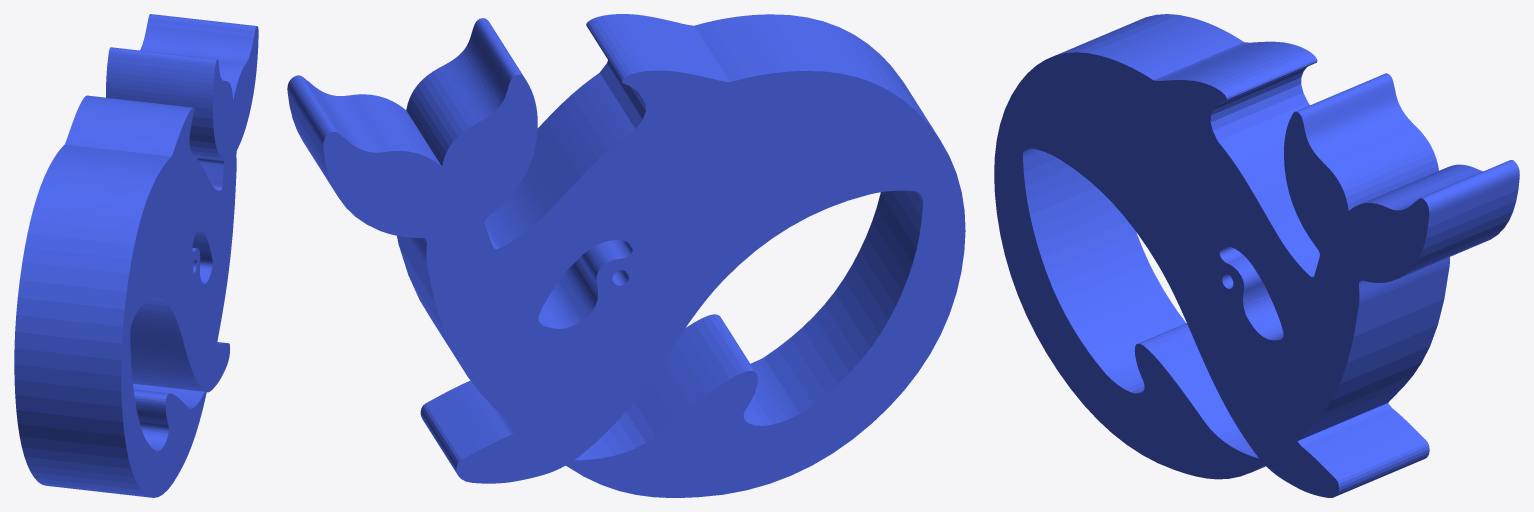
File: deepseek.gltf
The picture shows the model from 3 angles, left to right: view 1: azimuth 30°, elevation 25°; view 2: azimuth 150°, elevation 25°; view 3: azimuth 270°, elevation 25°; orthographic projection. The views are drawn at different scales.
Size of the model in its own units: 85.44 by 73.56 by 85.44.
